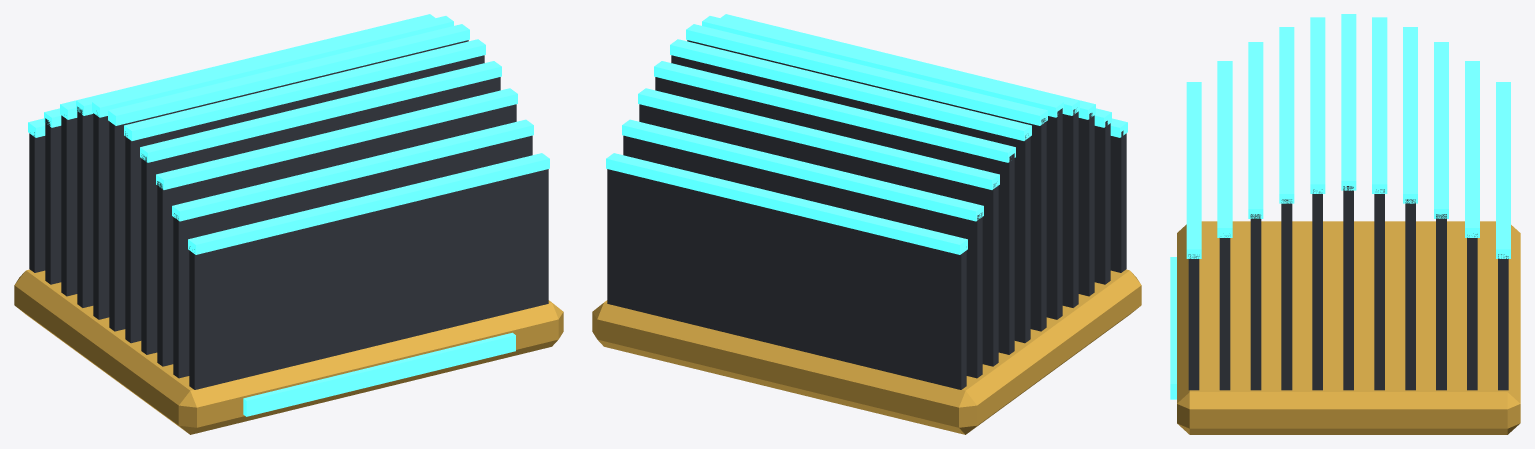
File: heatsink_space.glb
The picture shows the model from 3 angles, left to right: view 1: azimuth 30°, elevation 25°; view 2: azimuth 150°, elevation 25°; view 3: azimuth 270°, elevation 25°; orthographic projection. The views are drawn at different scales.
Visible parts, largest first — view 1: heatsink_space; view 2: heatsink_space; view 3: heatsink_space.
Boxes of the visible parts, <box> form: heatsink_space: <box>14,14,563,434</box>; heatsink_space: <box>592,14,1141,434</box>; heatsink_space: <box>1170,14,1520,434</box>.
Bounding box in the file's own units: 0.2 × 0.1295 × 0.163.
